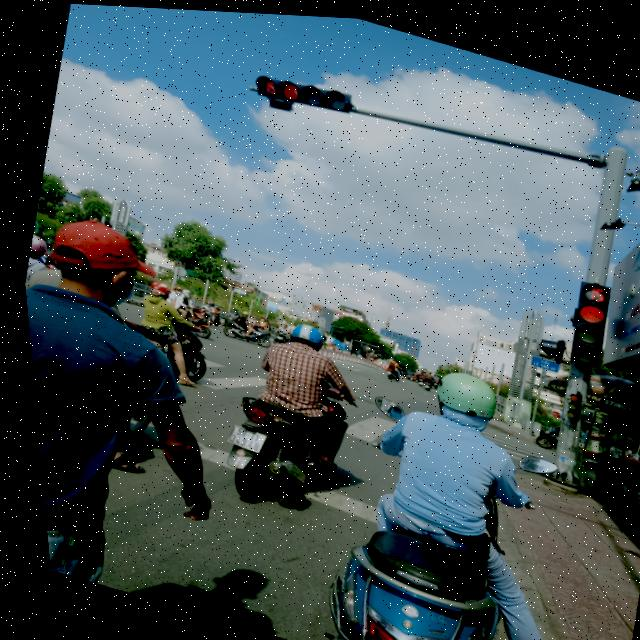Red: (551, 290, 615, 370), (268, 69, 357, 120)
